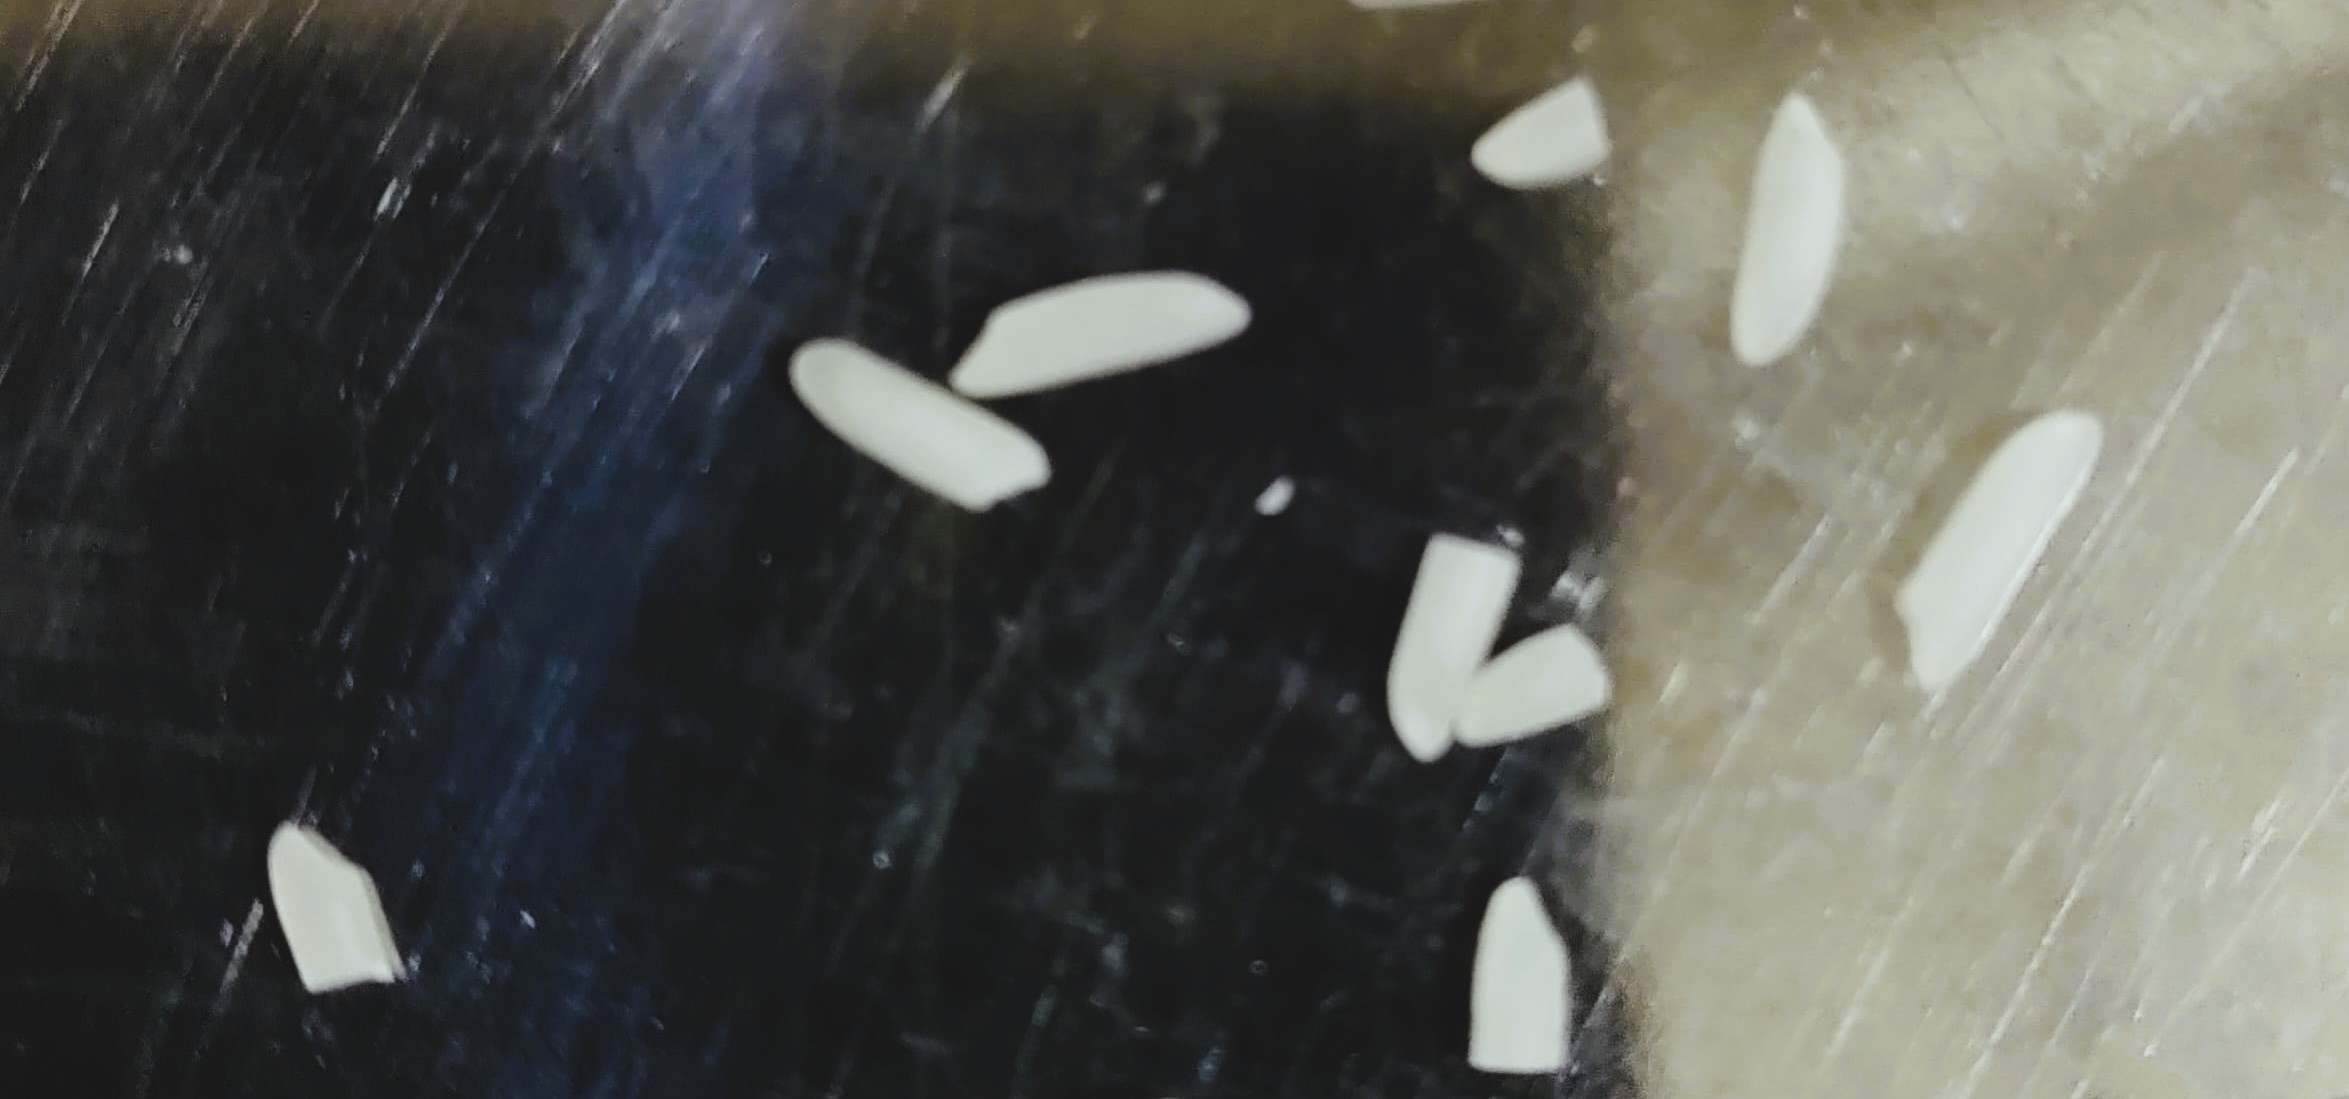broken_grain: (1378, 522, 1531, 774), (248, 803, 412, 1013), (1451, 856, 1587, 1083), (1458, 60, 1637, 211), (1447, 620, 1623, 758)
complete_grain: (1889, 399, 2115, 706), (781, 327, 1061, 516), (943, 258, 1259, 410), (1715, 77, 1851, 389)
